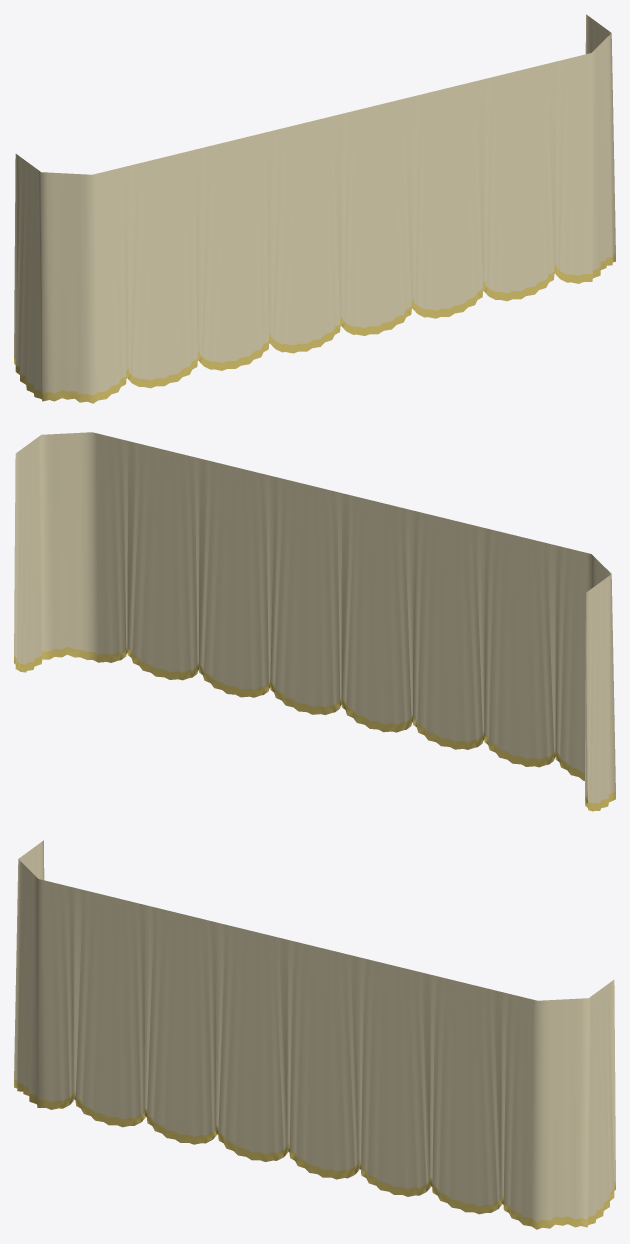
The model's file is 1StageCurtains.glb.
3 renders of one model, top to bottom at view 1: azimuth 30°, elevation 25°; view 2: azimuth 150°, elevation 25°; view 3: azimuth 330°, elevation 25°, orthographic.
Visible parts, largest first — view 1: Curtain; view 2: Curtain; view 3: Curtain.
Part boxes in pixels (box(x1,y1,x2,y2)): Curtain: box(14, 14, 615, 403); Curtain: box(14, 432, 615, 811); Curtain: box(14, 840, 615, 1229).
Bounding box in the file's own units: 7.44 × 2.83 × 0.9442.
